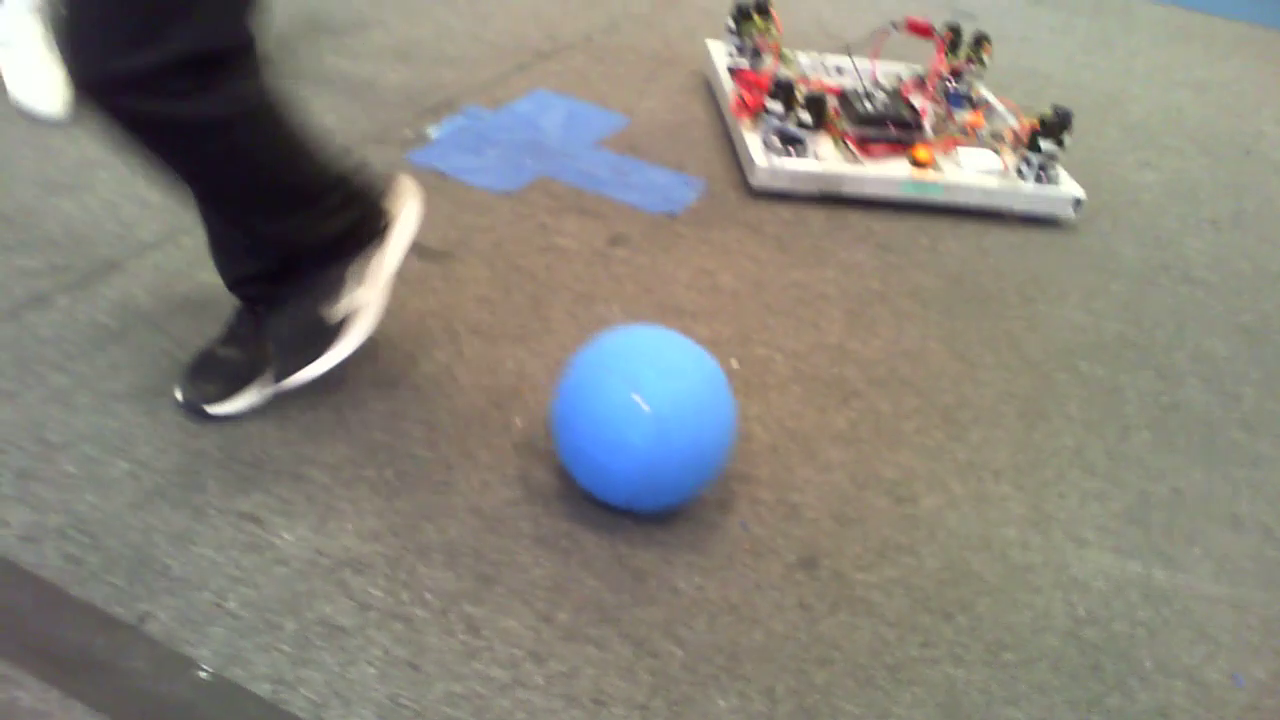blue_cargo: (551, 325, 729, 517)
